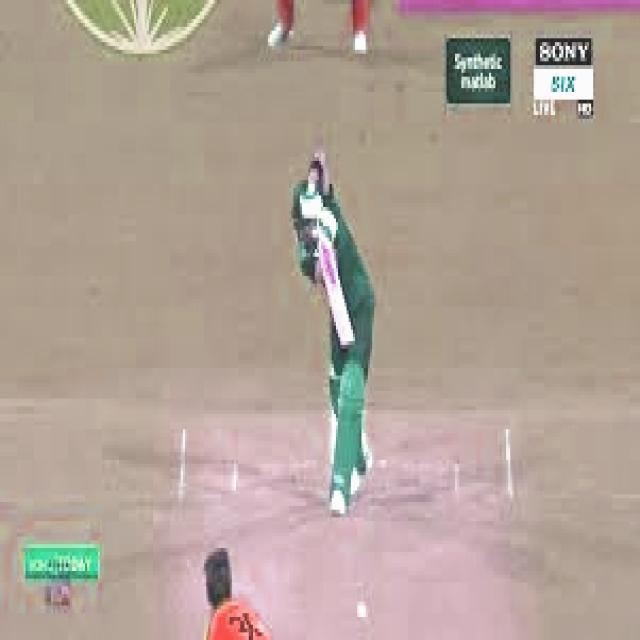toe: (333, 314, 357, 355)
